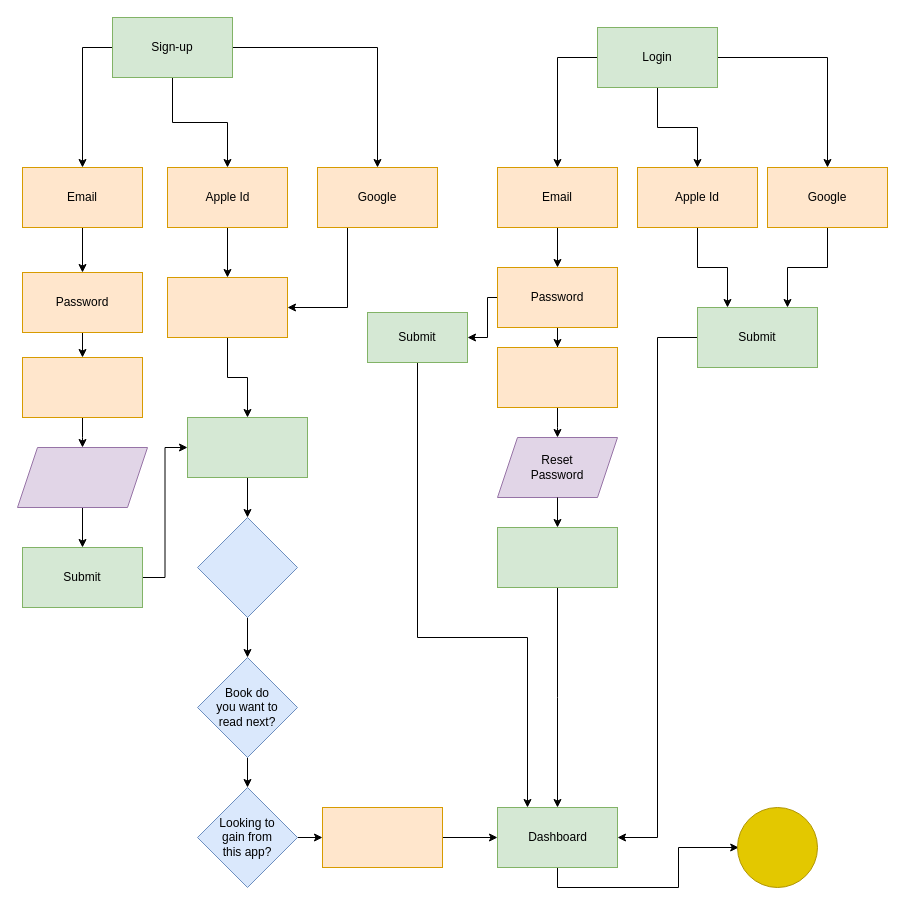
This 905x913 diagram has some shape labels left out. The box of each missing label's shape, as (x1, y1, x2, y2) in pixels:
Confirmation message: (166, 276, 288, 338)
Create account: (22, 356, 142, 418)
Creating your Nest...: (186, 416, 308, 478)
End: (736, 806, 818, 888)
Favorite genres: (196, 516, 298, 618)
Forgot Password?: (496, 346, 618, 408)
Name, DOB, Location, etc.: (16, 446, 148, 508)
Redirecting to your nest...: (322, 806, 442, 868)
Success: (496, 526, 618, 588)
